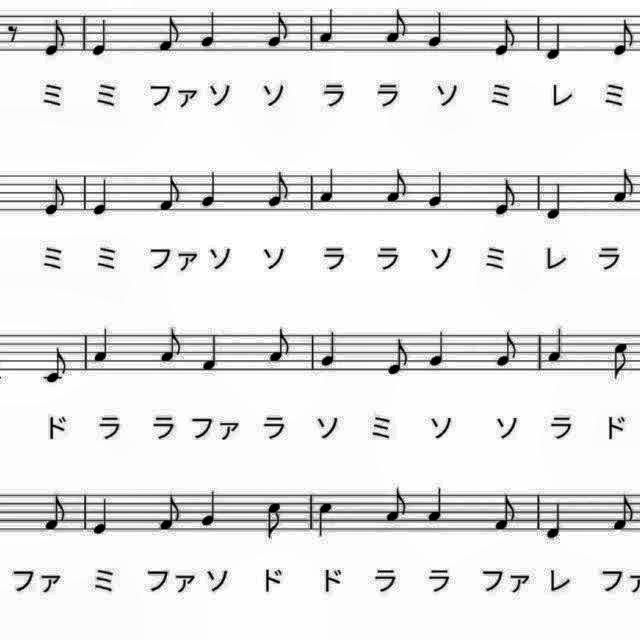Eighth-note: (37, 342, 71, 386), (264, 167, 296, 213), (156, 322, 188, 368), (38, 490, 70, 536), (489, 490, 521, 536), (264, 324, 296, 368), (263, 8, 295, 52), (608, 492, 640, 536), (154, 11, 186, 55), (38, 176, 70, 220), (154, 490, 186, 534), (39, 15, 70, 60), (381, 162, 412, 206), (156, 172, 187, 216), (381, 484, 412, 528), (490, 15, 520, 60), (609, 15, 639, 60), (383, 333, 412, 379), (490, 176, 520, 220), (381, 6, 412, 48), (609, 165, 639, 208), (609, 336, 635, 384), (492, 328, 520, 372), (262, 500, 290, 544)
Eighth-rest: (1, 17, 22, 47)
Quarter-note: (540, 498, 568, 544), (198, 164, 224, 212), (422, 8, 450, 52), (540, 180, 568, 224), (540, 20, 568, 64), (89, 14, 115, 61), (198, 486, 224, 532), (197, 7, 223, 53), (89, 494, 115, 540), (425, 325, 451, 371), (317, 325, 343, 371), (424, 165, 450, 211), (89, 175, 115, 221), (90, 324, 116, 368), (199, 330, 225, 374), (423, 484, 449, 528), (316, 162, 340, 206), (546, 324, 570, 368), (314, 498, 338, 542), (316, 5, 340, 48)
